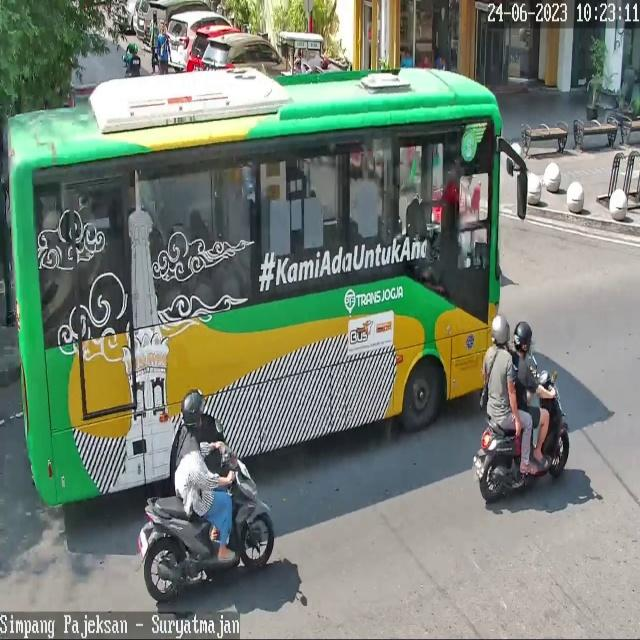bus: (144, 441, 274, 601), (479, 368, 571, 501)
car: (6, 68, 503, 508)
motorcycle: (164, 9, 233, 67), (144, 0, 212, 54), (201, 34, 281, 71), (186, 24, 242, 70)
